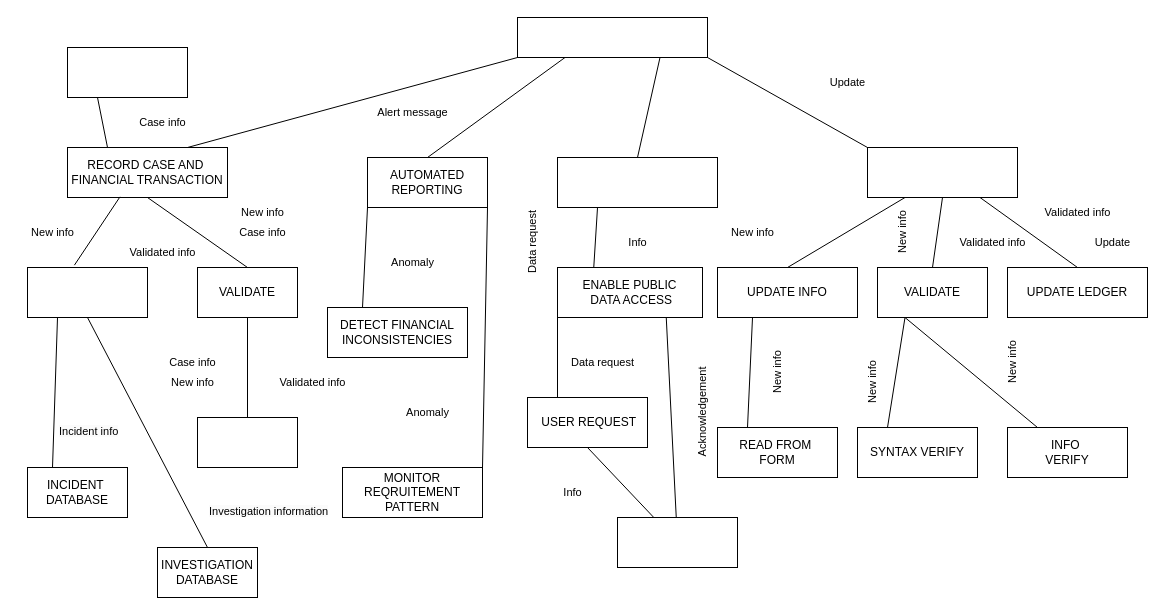
Some shapes in this 1165 by 615 pixel diagram are drawn without their labels. Here are the shapes that lost their labels. From the top down, the centre of each, then its label:
the point at 612,37: MANAGE BLOCKCHAIN TRANSACTIONS
the point at 127,72: CASE DATABASE
the point at 637,182: PUBLIC ACCOUNTABILITY MANAGEMENT
the point at 942,172: UPDATE AND MAINTAIN BLOCKCHAIN
the point at 87,292: GET NEW CASE INFO
the point at 247,442: VERIFY
the point at 677,542: USER RECEIVED
